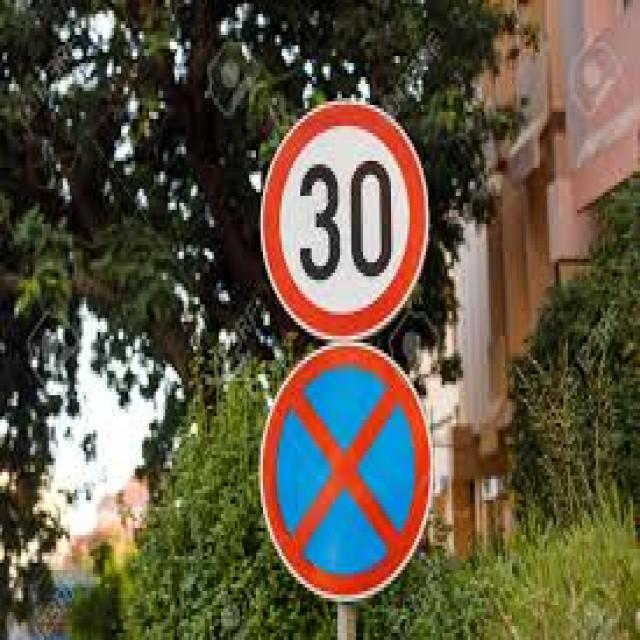SPEED_LIMIT_30: (255, 98, 435, 340)
